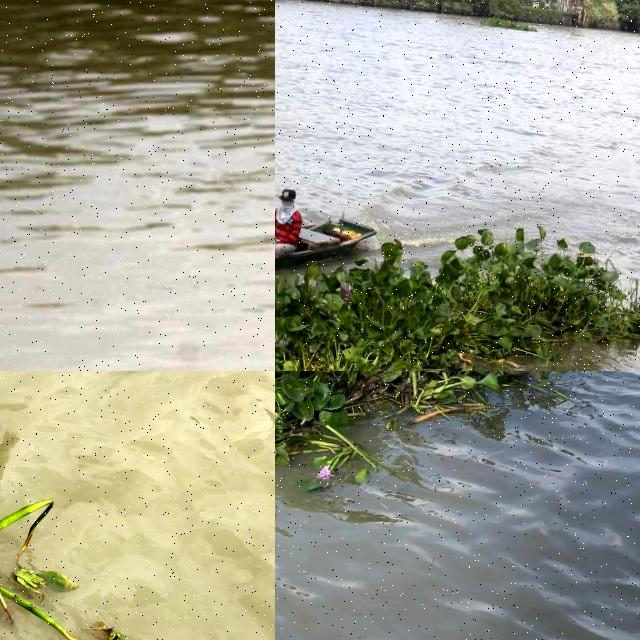water-hyacinth: (276, 224, 638, 372), (276, 372, 640, 496), (1, 497, 123, 640)
